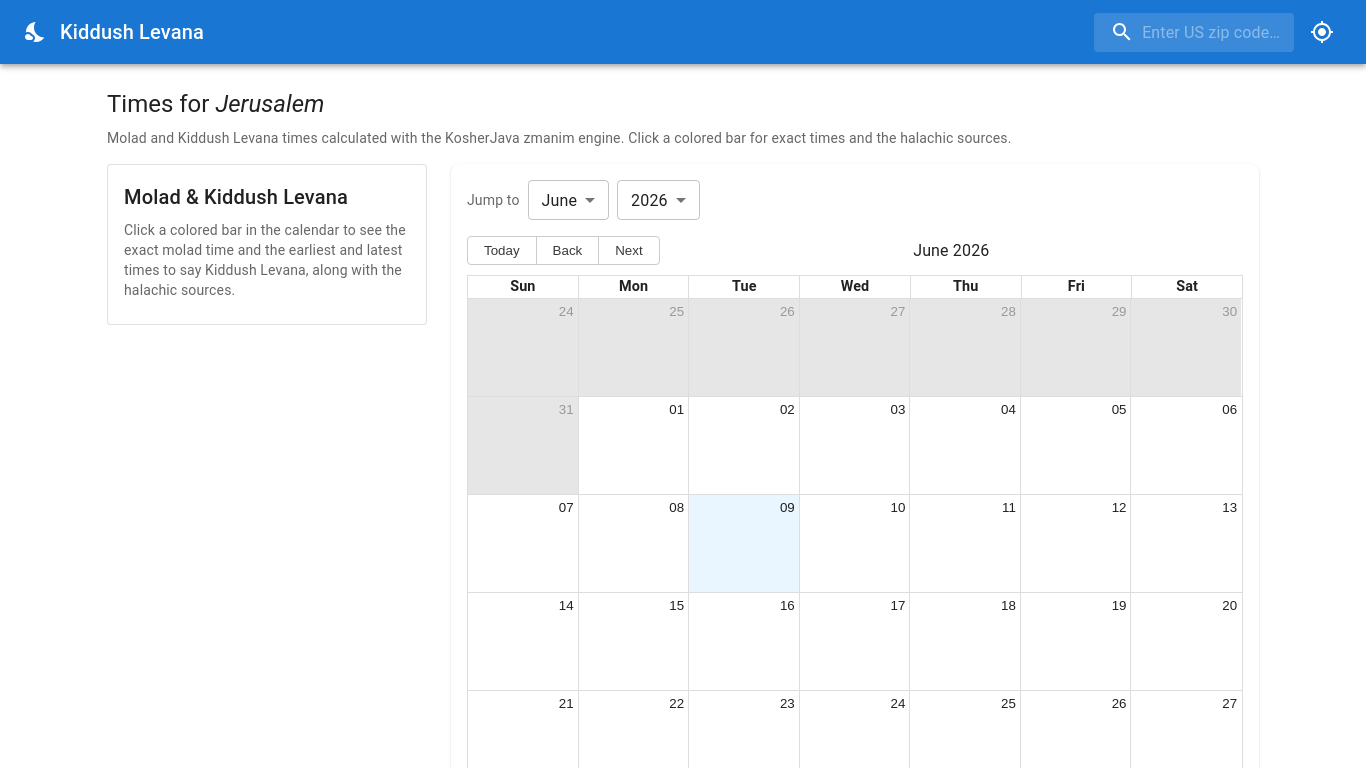
Test: App integration › shows an error when location detection is denied
Click the button named "use my current location". click: x=1322, y=32
box: left=1302, top=12, right=1342, bottom=52
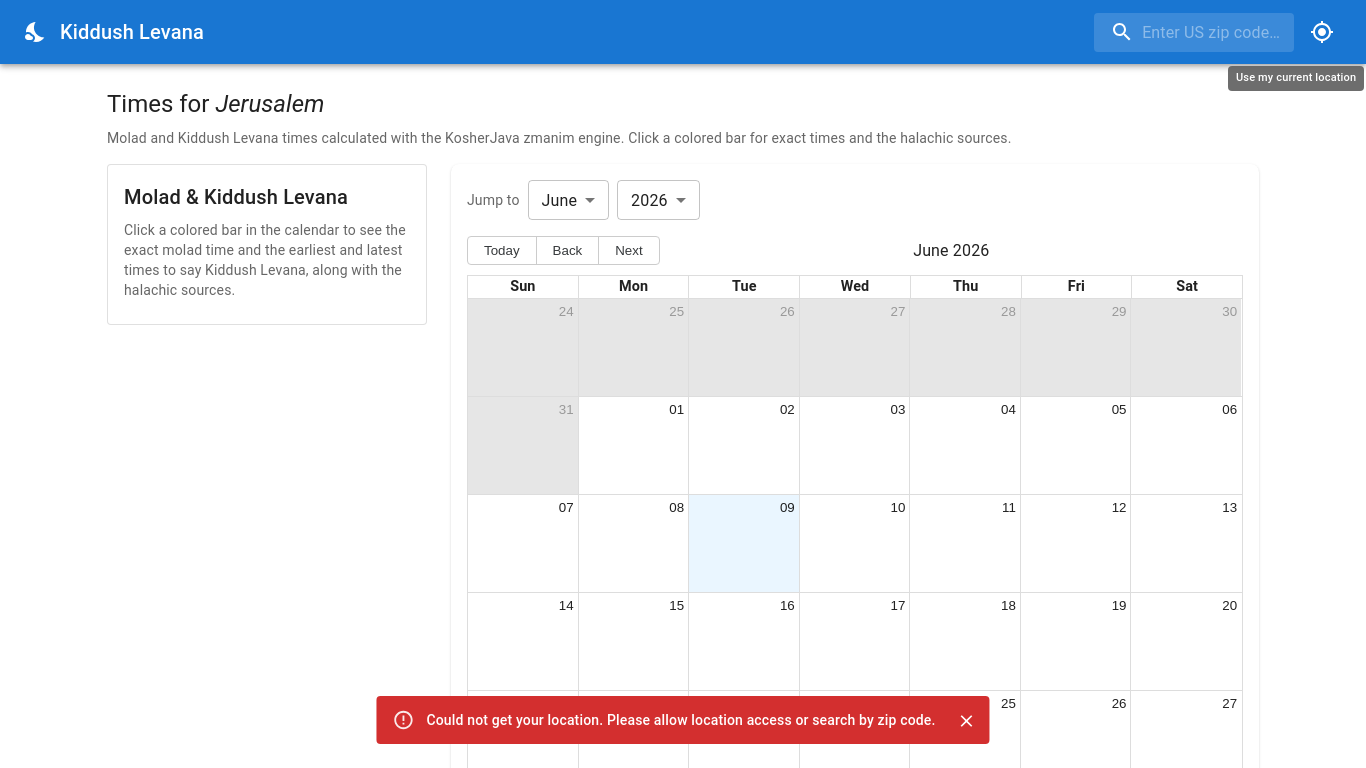
Check: the heading "Times for Jerusalem" is shown, box left=107, top=90, right=324, bottom=118
Check: the text "Could not get your location" is shown, box left=426, top=712, right=936, bottom=728
